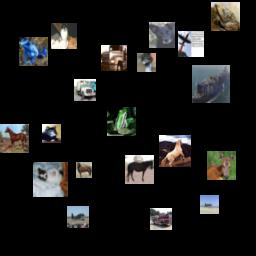airplane: (178, 31, 204, 57), (67, 206, 89, 228), (200, 195, 219, 214)
bird: (137, 53, 156, 72)
cat: (51, 23, 77, 49), (42, 124, 61, 143)
deer: (207, 151, 236, 180)
dog: (33, 162, 68, 197), (149, 22, 175, 48)
frog: (19, 37, 48, 66), (107, 107, 136, 136), (211, 2, 240, 31)
ship: (192, 65, 230, 103)
truck: (101, 45, 127, 71), (74, 79, 96, 101), (150, 208, 172, 230)
